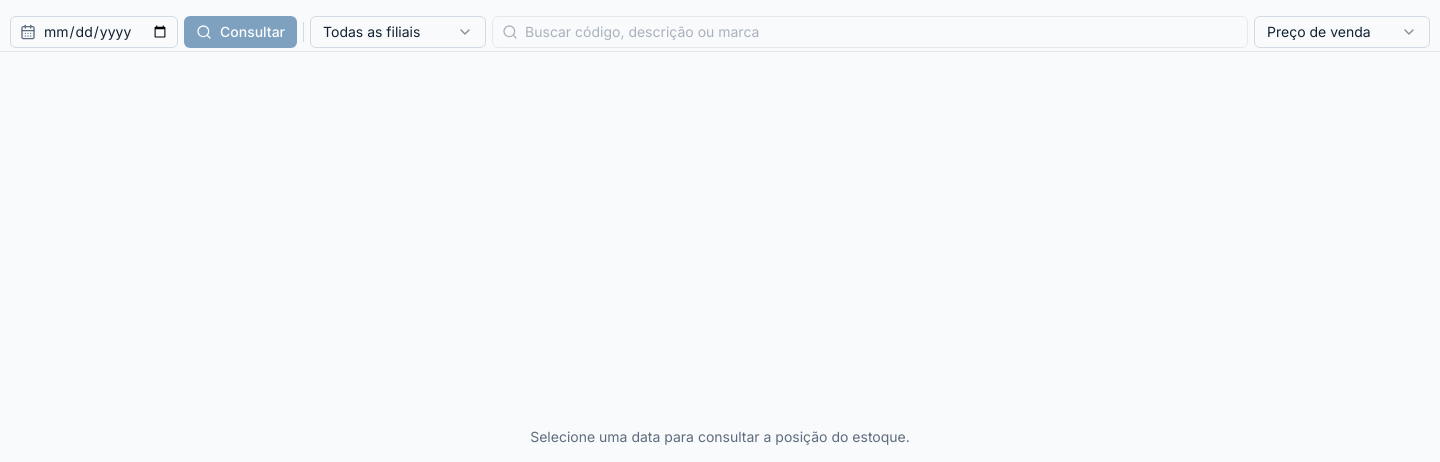
EstoqueRetroativoPage › mostra resumo e resultados compactos depois da consulta
Type "2026-08-31" into the date field named "Data do estoque".
click(94, 32); type("2026-08-31")  # box x1=10 y1=16 x2=178 y2=48
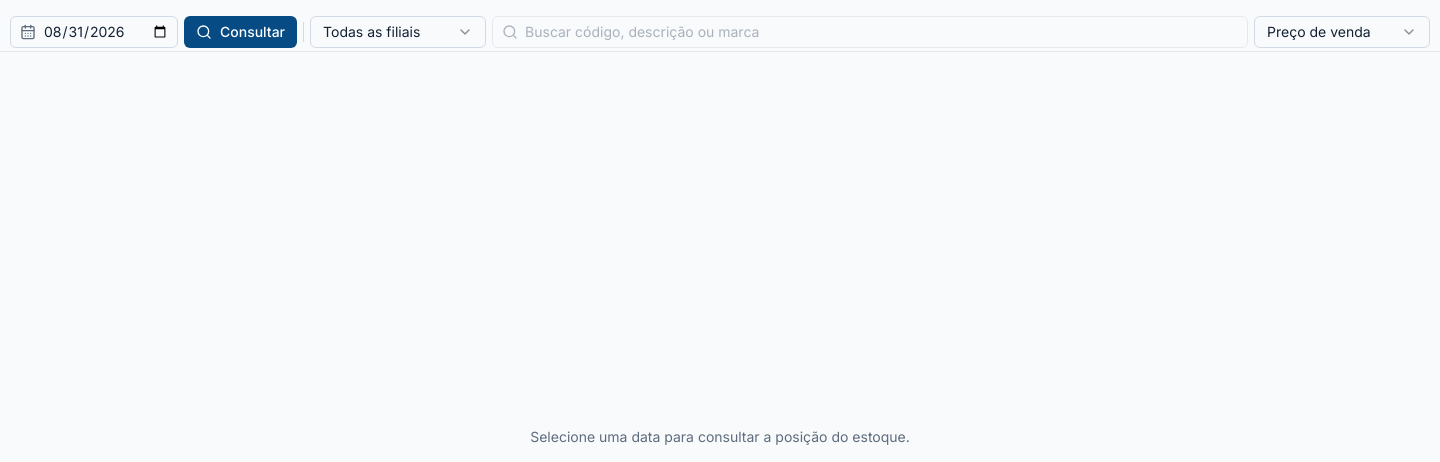
Click the button "Consultar".
click(240, 32)  # box x1=184 y1=16 x2=297 y2=48
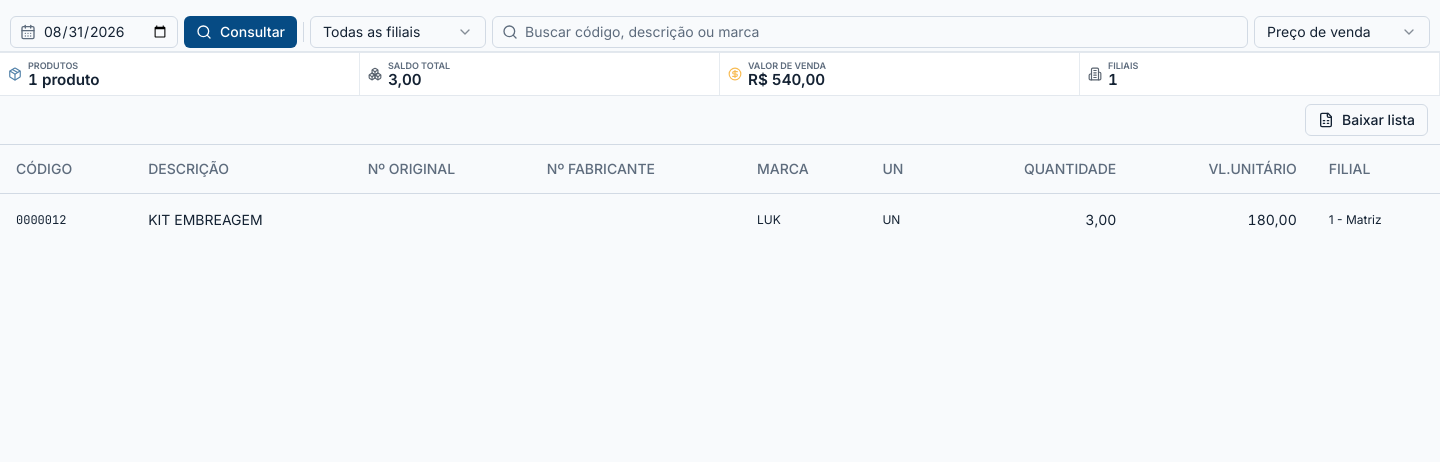
Expected: the search field named "Buscar nos resultados" is shown, x1=492 y1=16 x2=1248 y2=48
Expected: the text "1 produto" is shown, x1=28 y1=70 x2=100 y2=89
Expected: the text "3,00" is shown, x1=388 y1=70 x2=422 y2=89
